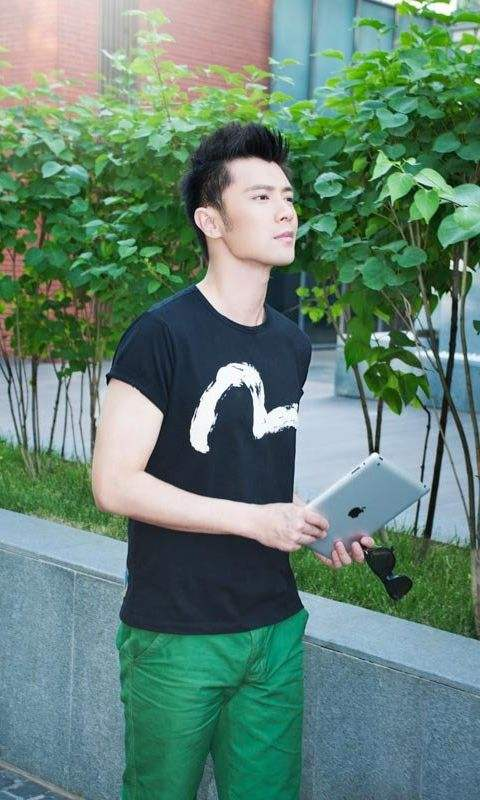person: (131, 120, 381, 784)
